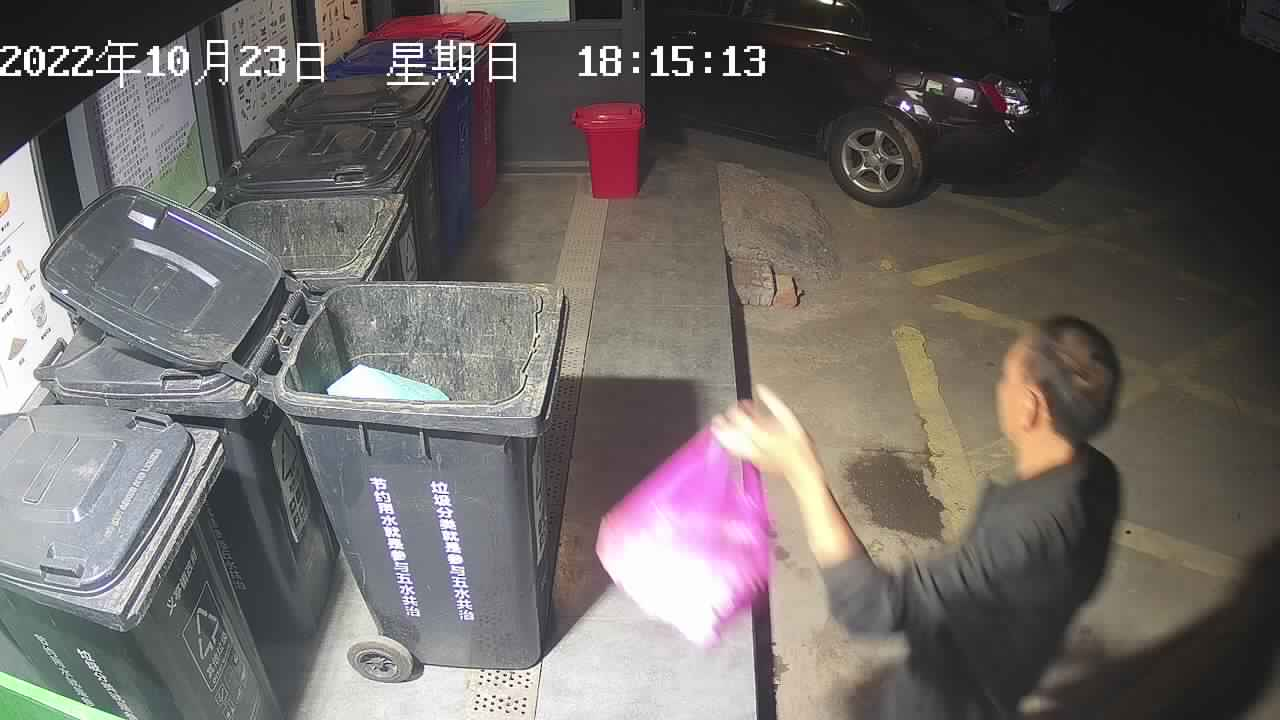garbage-bag: (592, 419, 778, 653)
person: (708, 310, 1124, 720)
